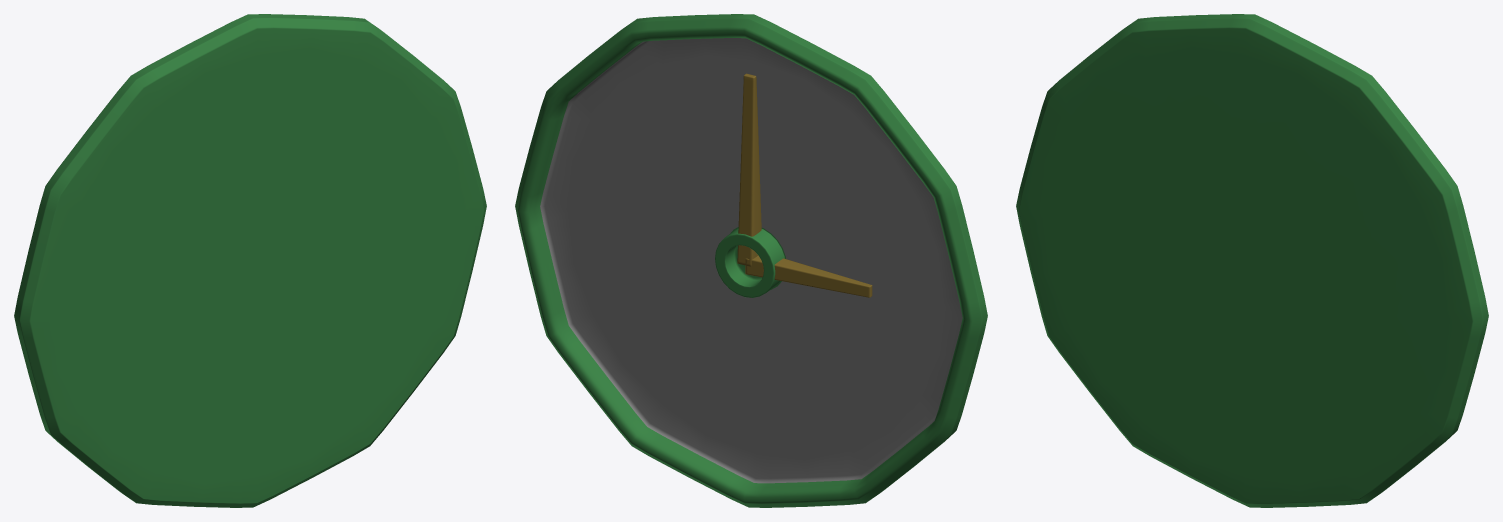
Rendered from Clock.fbx.
3 renders of one model, left to right at view 1: azimuth 30°, elevation 25°; view 2: azimuth 150°, elevation 25°; view 3: azimuth 330°, elevation 25°, orthographic.
Visible parts, largest first — view 1: C_MainBody; view 2: C_MainBody (×2), C_MinuteHand, C_HourHand; view 3: C_MainBody.
Boxes of the visible parts, left/top/right/bottom form: C_MainBody: left=14, top=14, right=486, bottom=507; C_MainBody (×2): left=515, top=14, right=987, bottom=507; C_MinuteHand: left=737, top=73, right=761, bottom=266; C_HourHand: left=745, top=255, right=872, bottom=297; C_MainBody: left=1016, top=14, right=1488, bottom=507.
Size of the model in its own units: 9.58 by 9.58 by 0.496.
